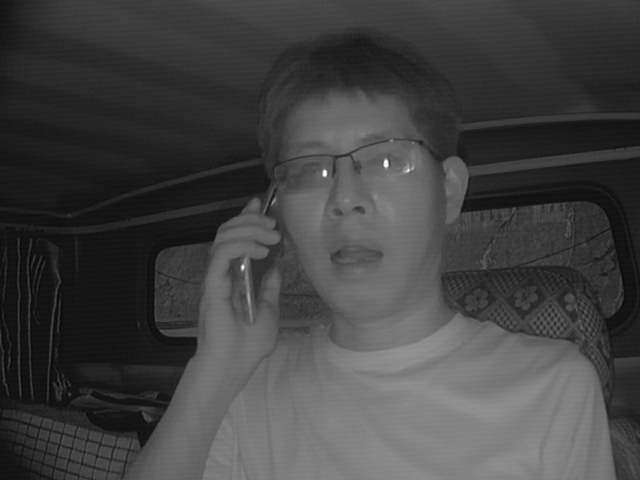hand: (188, 198, 283, 373)
